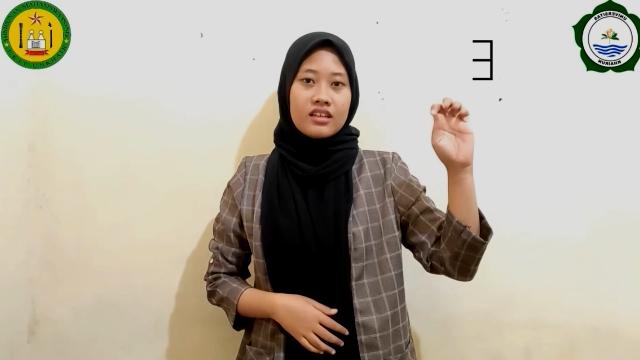E: (428, 98, 476, 174)
